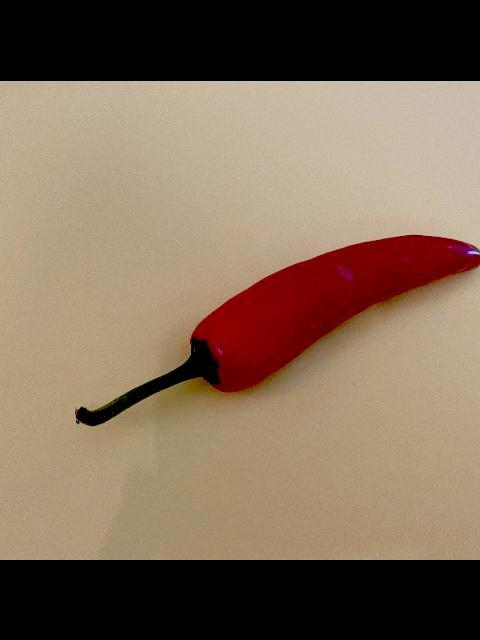chilli: (73, 232, 480, 426)
